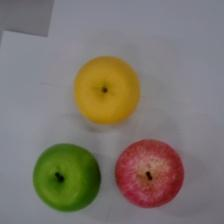green: (33, 143, 101, 212)
red: (115, 139, 185, 208)
yellow: (73, 56, 140, 125)
